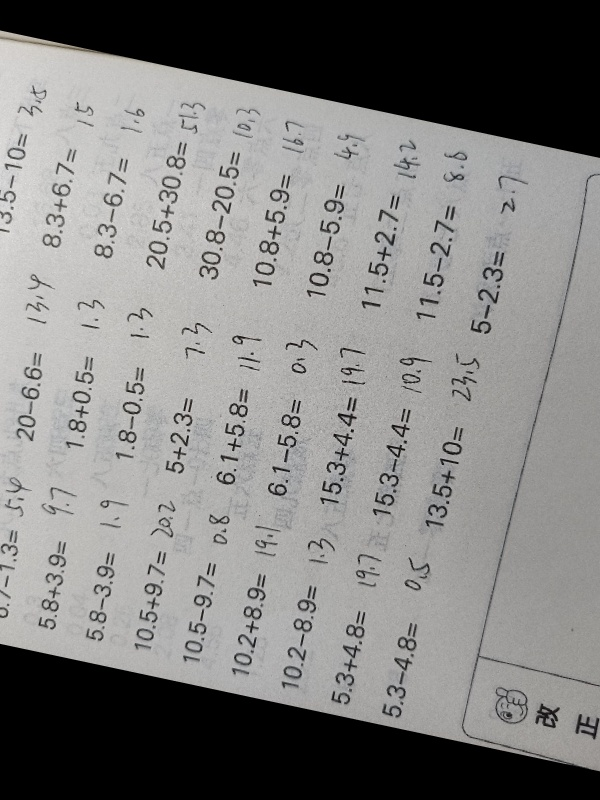equation: (142, 89, 205, 269), (3, 265, 62, 446), (152, 304, 212, 480), (54, 275, 112, 455), (316, 336, 373, 512), (212, 315, 266, 492), (371, 349, 424, 525), (267, 328, 320, 504), (306, 128, 358, 305), (471, 165, 523, 341), (251, 118, 303, 294), (197, 111, 249, 287), (426, 360, 477, 537), (382, 548, 433, 725), (331, 534, 382, 711), (181, 494, 232, 671), (417, 152, 468, 328), (281, 520, 332, 696), (361, 140, 412, 316), (132, 482, 183, 658), (112, 292, 163, 468), (92, 89, 143, 265), (40, 79, 91, 255), (36, 460, 86, 637), (232, 506, 282, 682), (84, 472, 134, 648), (0, 66, 42, 242), (0, 449, 38, 625), (0, 260, 9, 436)
